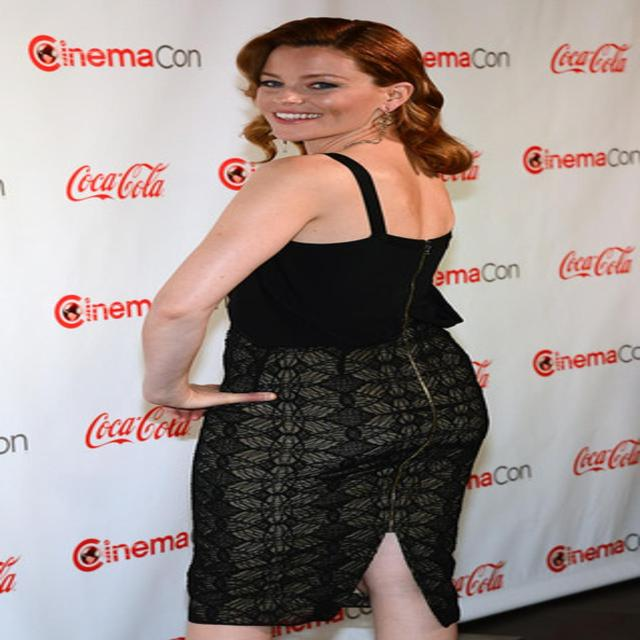Face: (230, 37, 408, 144)
